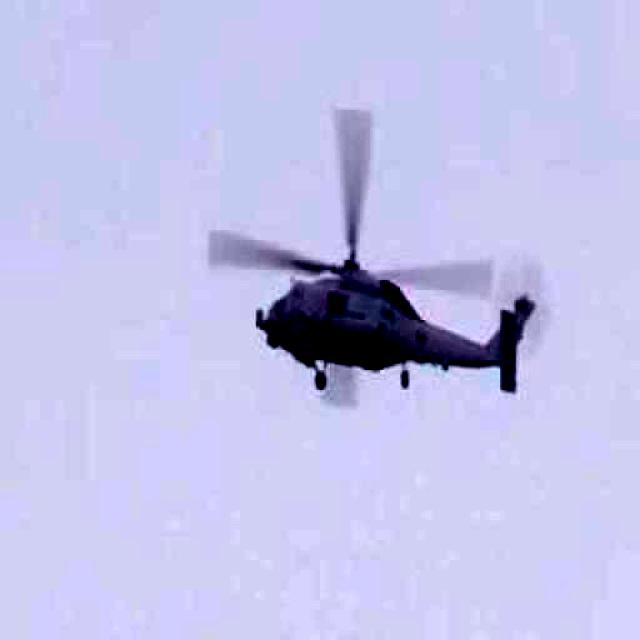drone: (182, 94, 576, 436)
